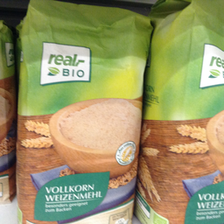flour: (14, 1, 151, 223), (136, 1, 224, 218)
